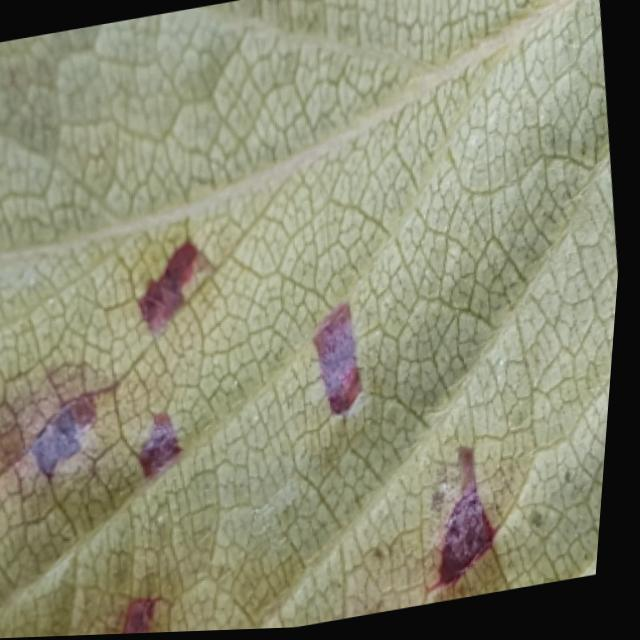Angular Leafspot: (0, 210, 604, 636)
